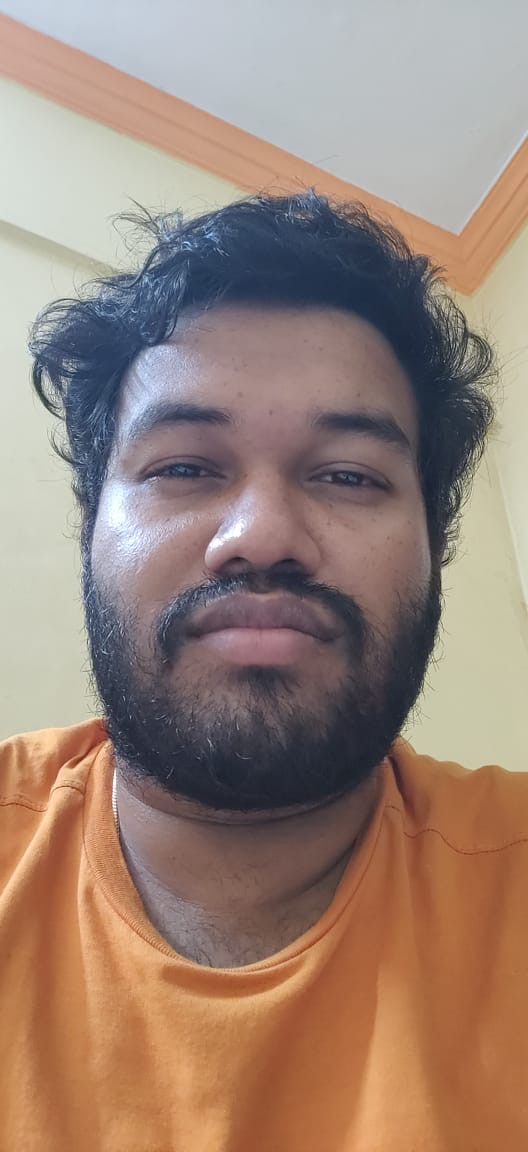Half Asleep: (124, 429, 416, 522)
